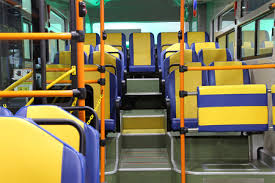seat: (168, 67, 206, 131)
